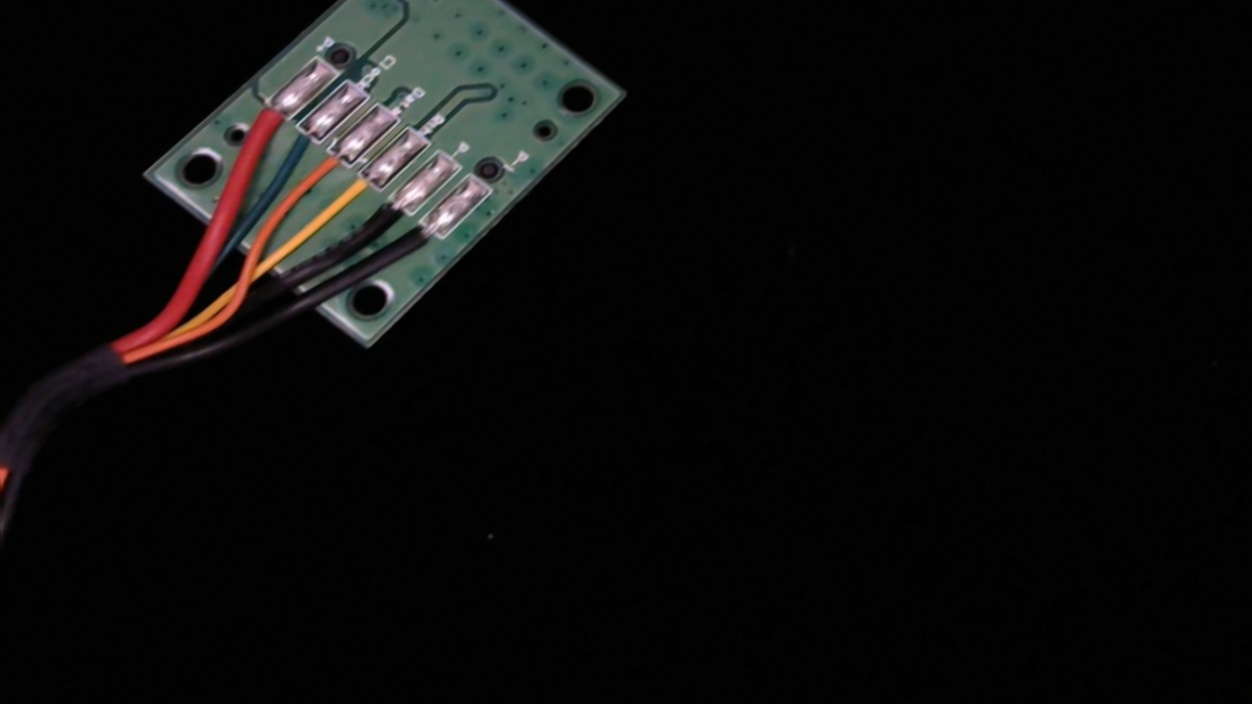Black: (346, 189, 423, 253)
Black1: (378, 212, 455, 277)
Green: (255, 115, 333, 177)
Orange: (286, 141, 361, 202)
Red: (220, 91, 303, 156)
Yellow: (311, 164, 393, 231)
